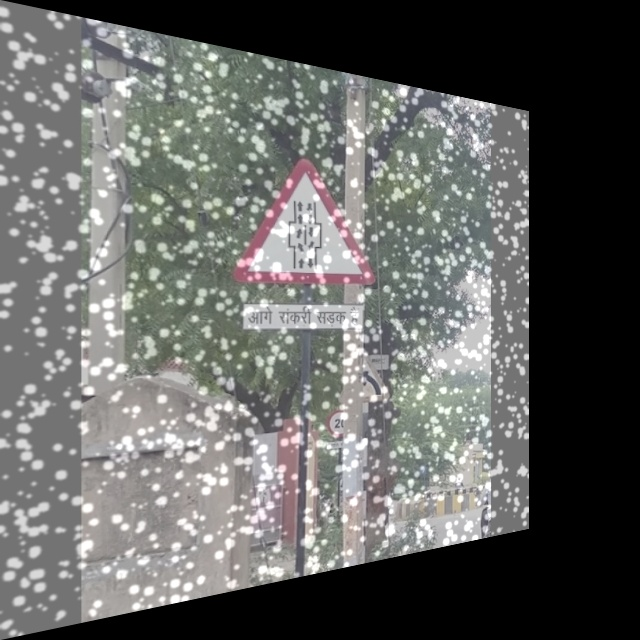Narrow_Road_Ahead: (229, 150, 373, 288)
